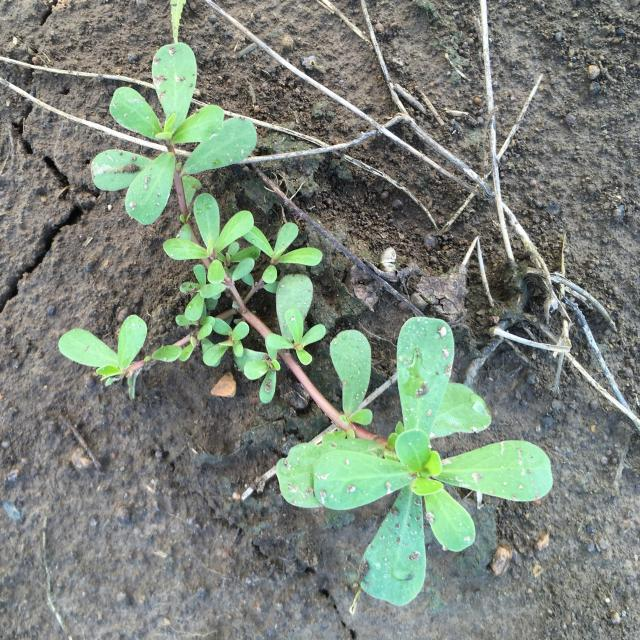Purslane: (59, 43, 553, 607)
